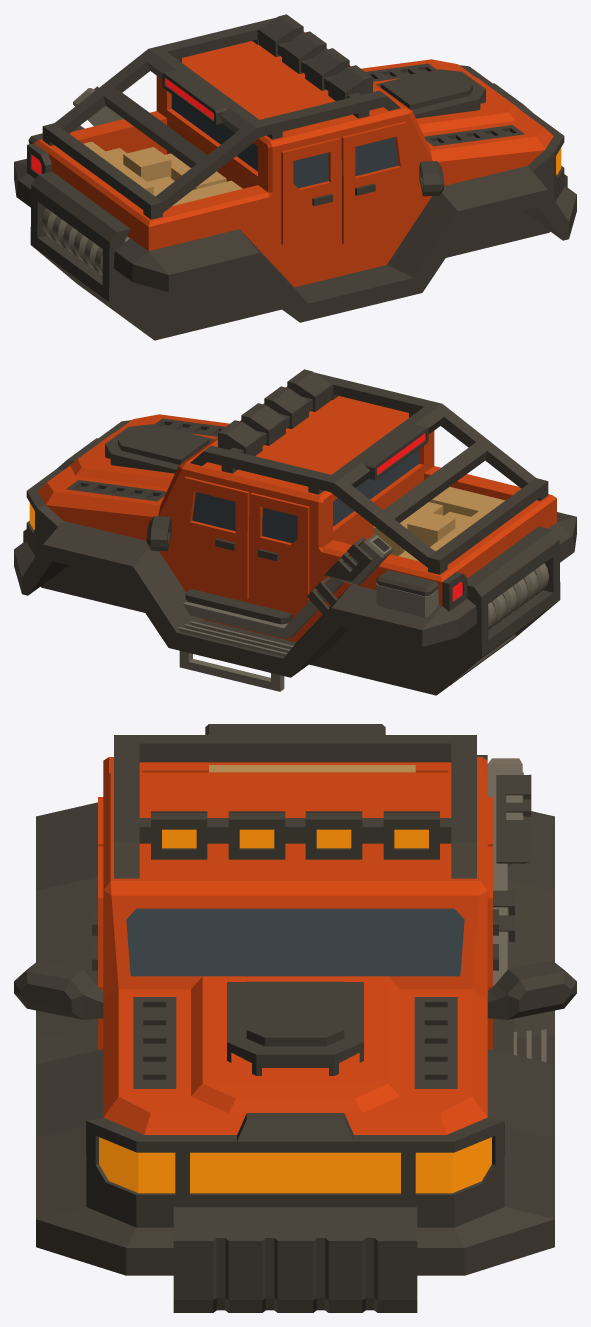
File: chassis.glb
3 renders of one model, top to bottom at view 1: azimuth 30°, elevation 25°; view 2: azimuth 150°, elevation 25°; view 3: azimuth 270°, elevation 25°, orthographic. The views are drawn at different scales.
Parts seen in each view (by area): view 1: Plane.001, Cube.011, Cube.017, Cube.033, Plane.003, Cube.021; view 2: Plane.001, Cube.011, Plane.003, Cube.033, Cube.017, Cube.021; view 3: Plane.001, Cube.011, Cube.017, Cube.004, Plane.003, Cube.033.
Boxes of the visible parts, box(x1,y1,x2,y2) form: Plane.001: box(14, 14, 576, 340); Cube.011: box(34, 31, 553, 287); Cube.017: box(171, 94, 398, 188); Cube.033: box(83, 141, 242, 206); Plane.003: box(29, 88, 129, 275); Cube.021: box(31, 78, 213, 174); Plane.001: box(14, 369, 576, 695); Cube.011: box(37, 386, 556, 642); Plane.003: box(178, 534, 548, 691); Cube.033: box(373, 486, 505, 561); Cube.017: box(192, 449, 419, 543); Cube.021: box(377, 433, 462, 601); Plane.001: box(14, 724, 576, 1312); Cube.011: box(98, 757, 492, 1134); Cube.017: box(126, 908, 464, 976); Cube.004: box(99, 829, 491, 1193); Plane.003: box(487, 758, 546, 1062); Cube.033: box(209, 765, 415, 772).
Bounding box in the file's own units: 2.99 × 1.32 × 1.89.
